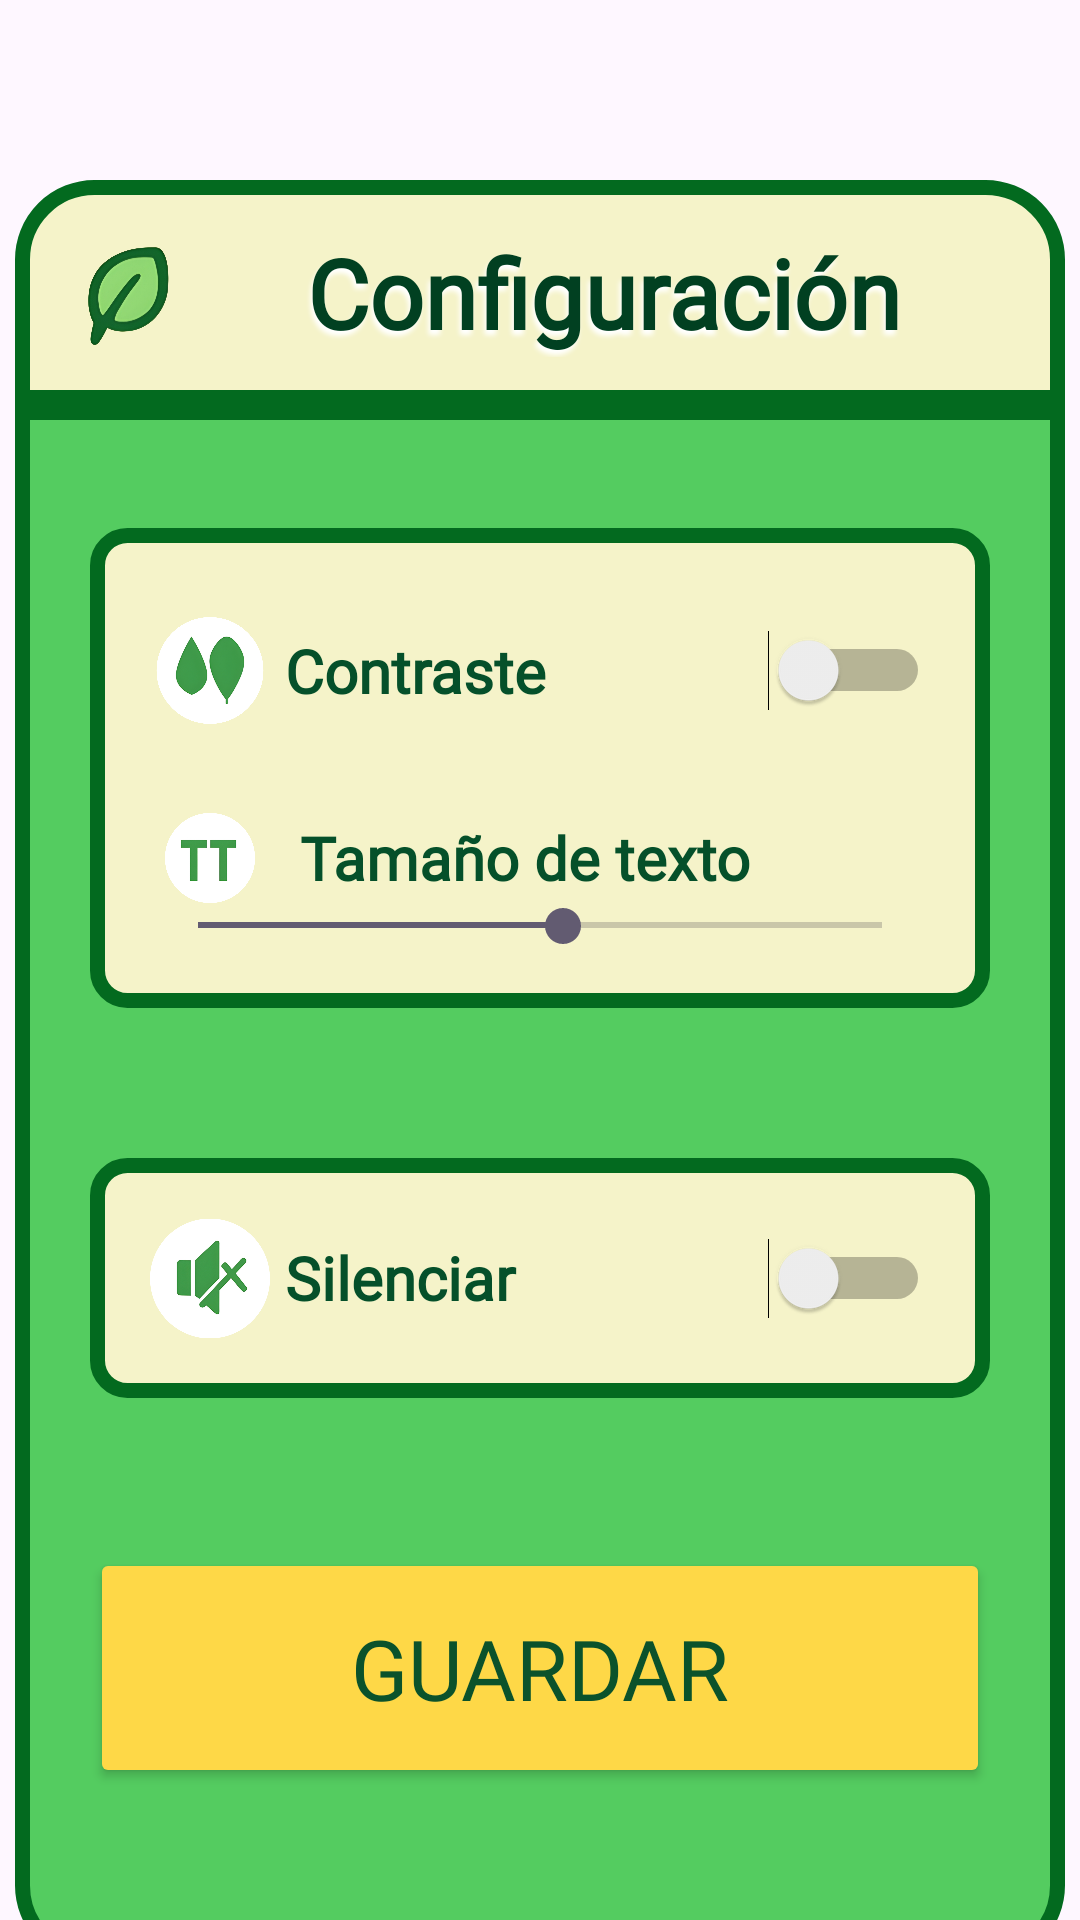

Icon bounding boxes for this 1080px x 1920px phone screenshot, format (x1, y1, x2, y2):
fuente: (165, 813, 255, 903)
leaf: (88, 247, 169, 345)
mute: (150, 1219, 270, 1338)
